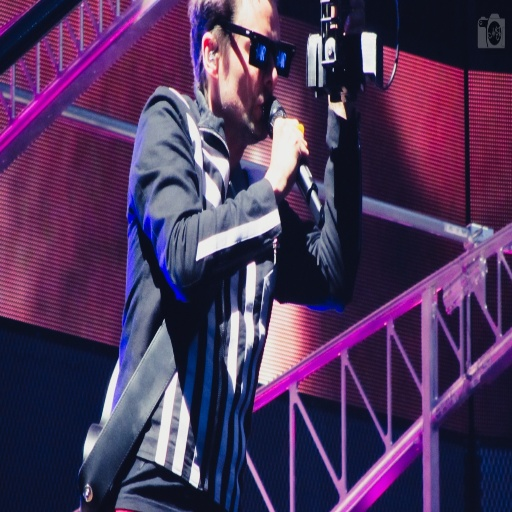hand: (324, 2, 364, 112), (266, 108, 307, 184)
